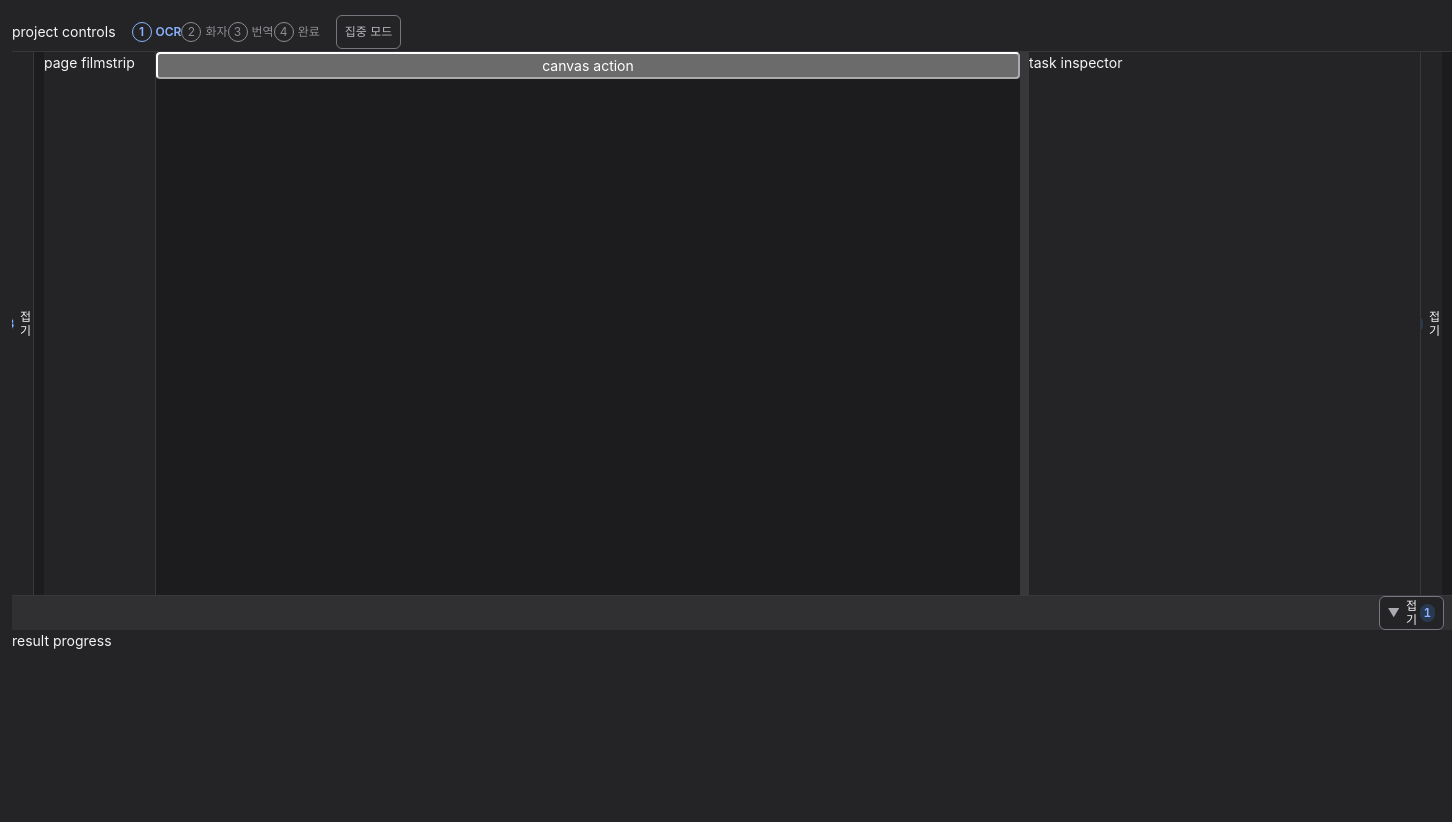
FocusDeckShell › shows the saved page rail beside the editor at 1440px
Expected: the text "page filmstrip" is shown, [44,54,135,71]
Expected: the text "task inspector" is shown, [1029,54,1122,71]
Click the button with aria-label "페이지 목록 접기".
click(22, 324)  # box [12,52,33,595]
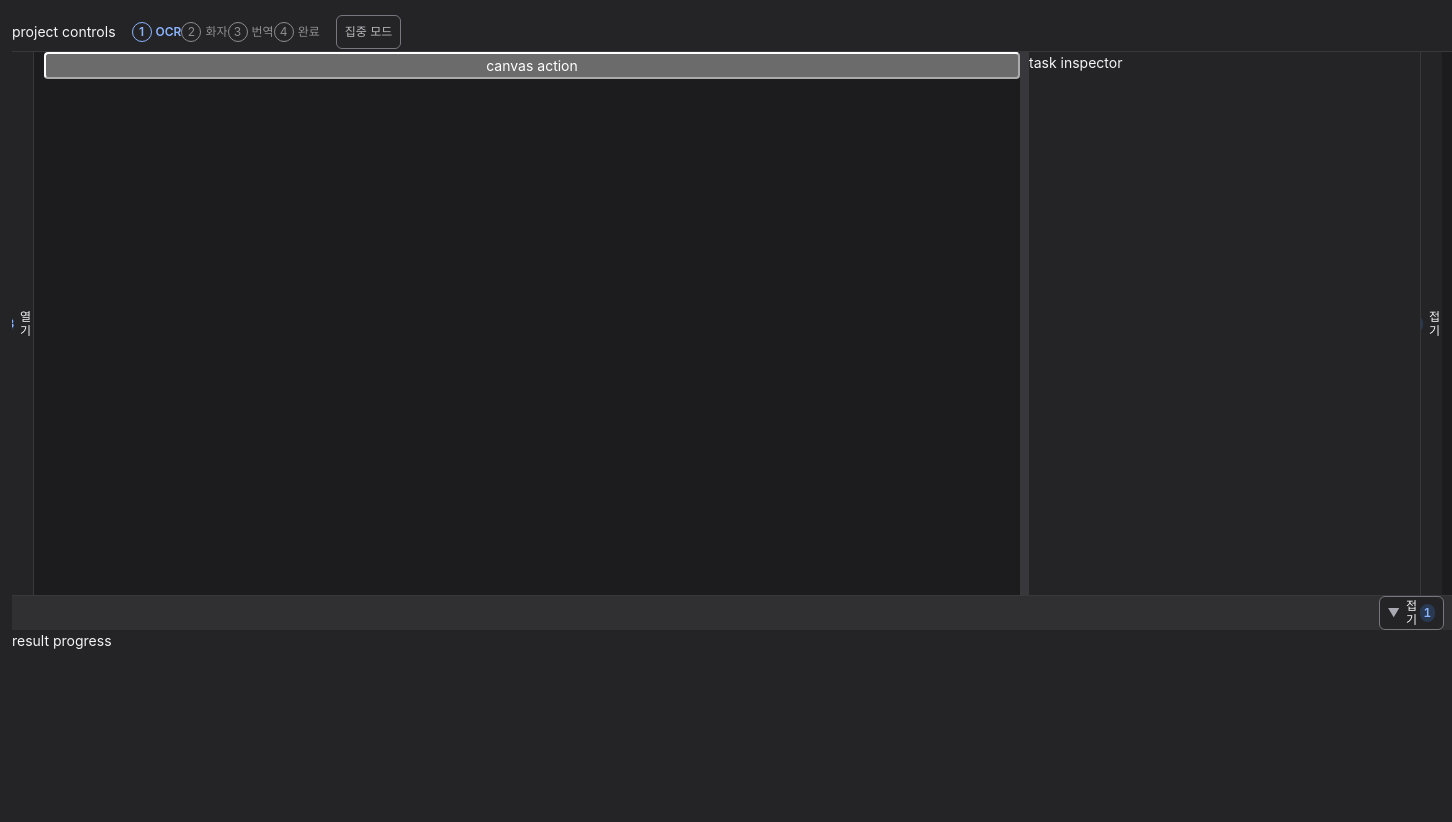
Expected: the text "page filmstrip" is gone
Expected: the button with aria-label "페이지 목록 열기" is collapsed
Click the button with aria-label "페이지 목록 열기".
click(22, 324)  # box [12,52,33,595]
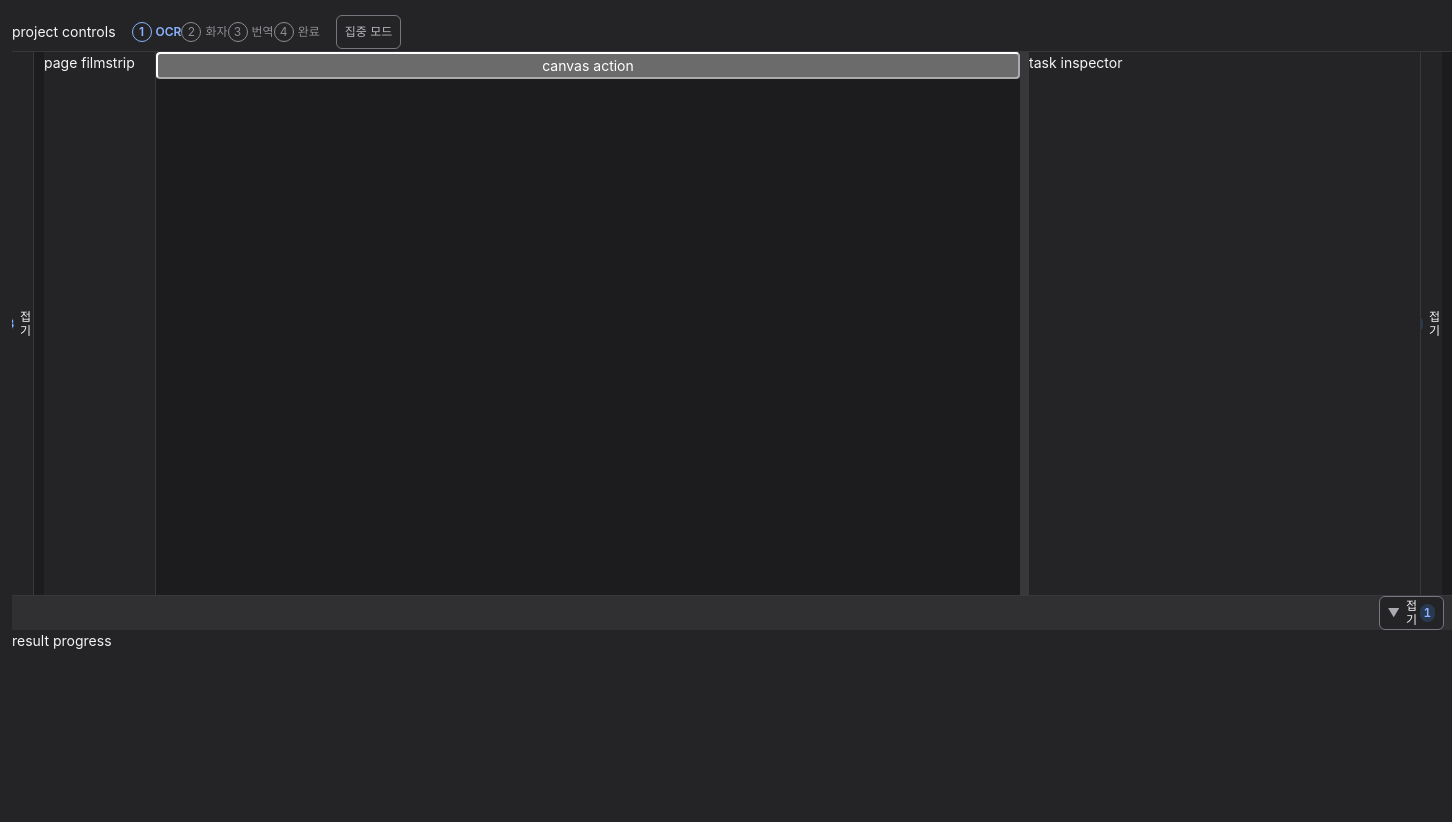
Expected: the text "page filmstrip" is shown, [44,54,135,71]
Expected: the button with aria-label "페이지 목록 접기" is expanded, [12,52,33,595]
